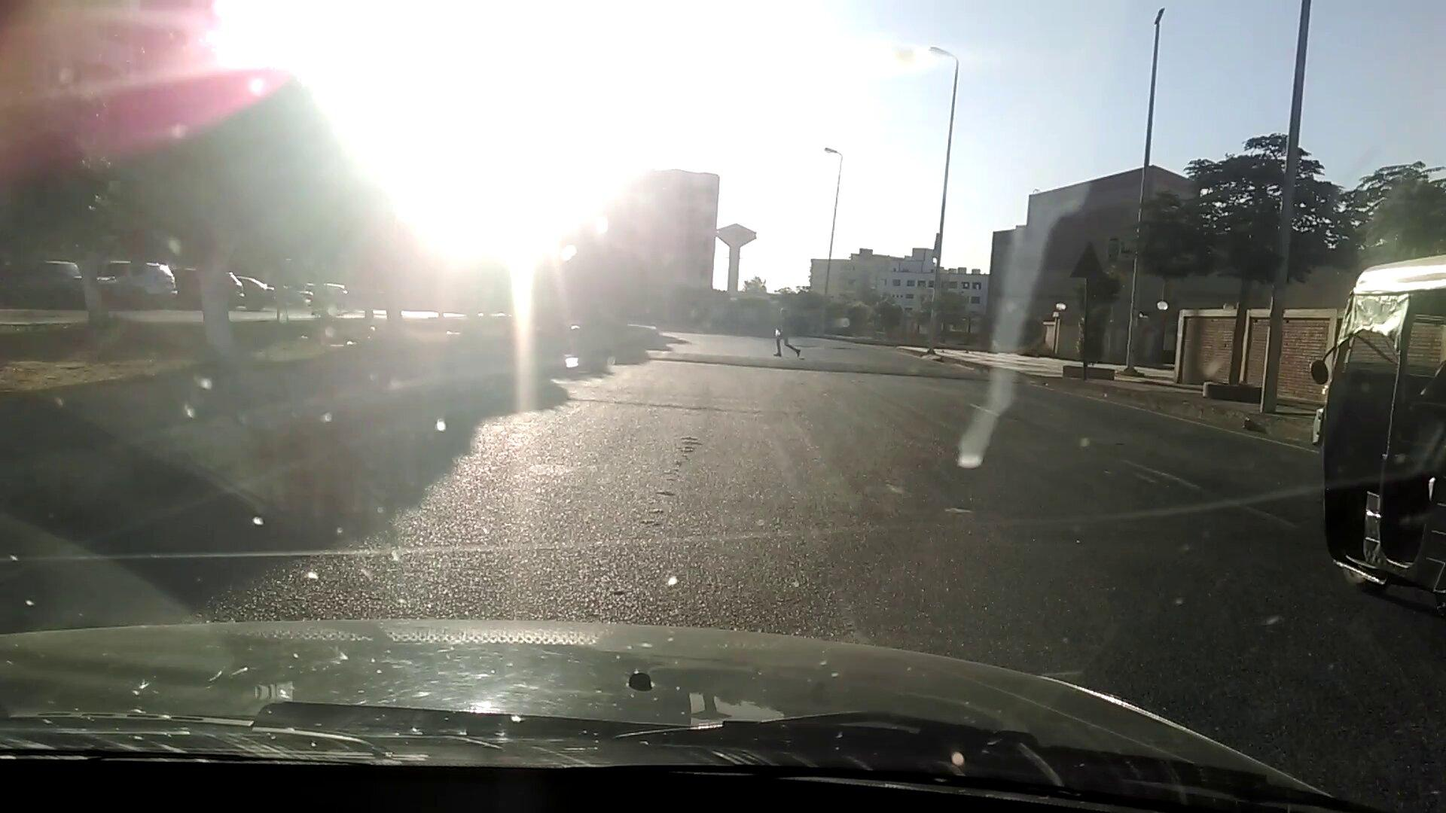Bump: (615, 345, 1041, 390)
